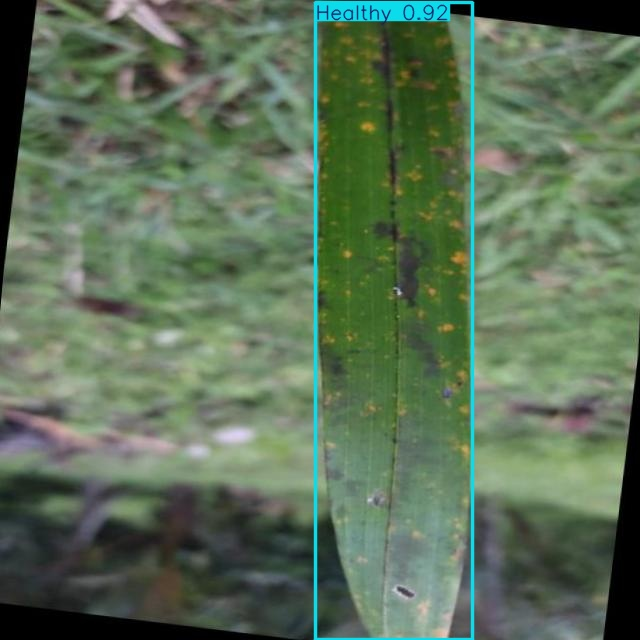Healthy: (316, 2, 473, 640)
